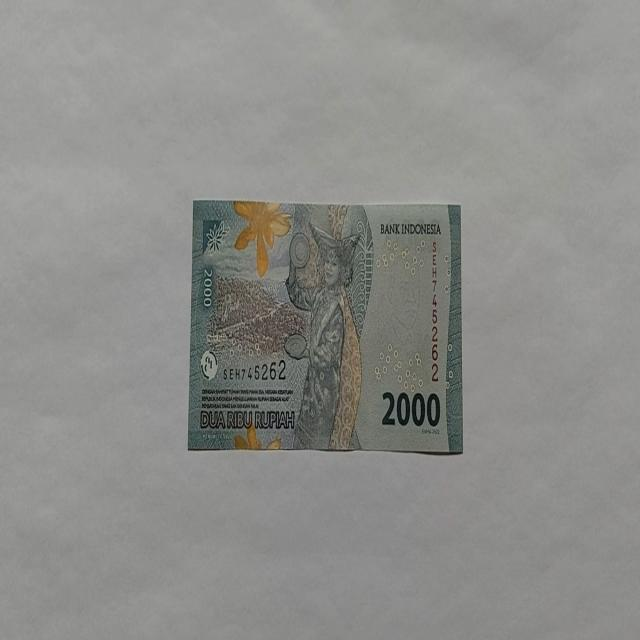dua ribu rupiah: (187, 199, 463, 454), (284, 220, 364, 450), (232, 198, 292, 278)
